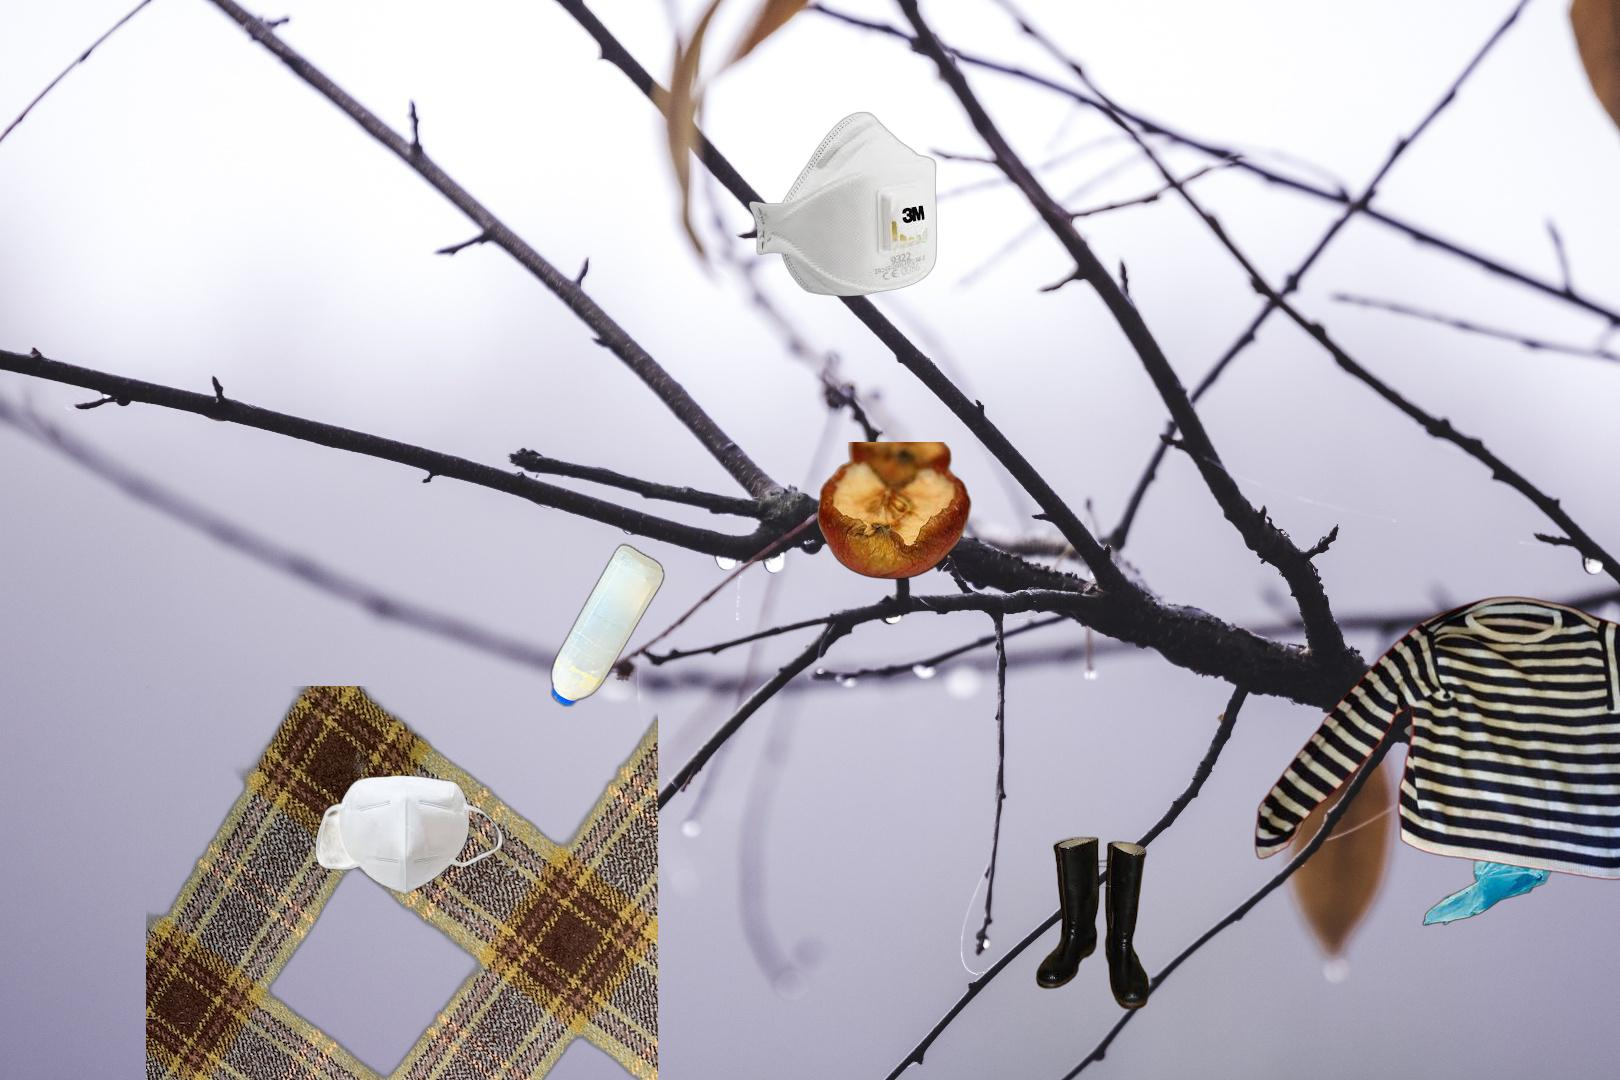biological: (814, 442, 974, 582)
clothes: (1250, 593, 1620, 884)
metal-cans: (146, 686, 658, 1080)
plastic-bag: (1401, 688, 1562, 928)
plastic-bottles: (547, 539, 669, 712)
shoes: (1033, 834, 1152, 1012)
trash: (746, 110, 939, 299), (313, 771, 506, 896)
